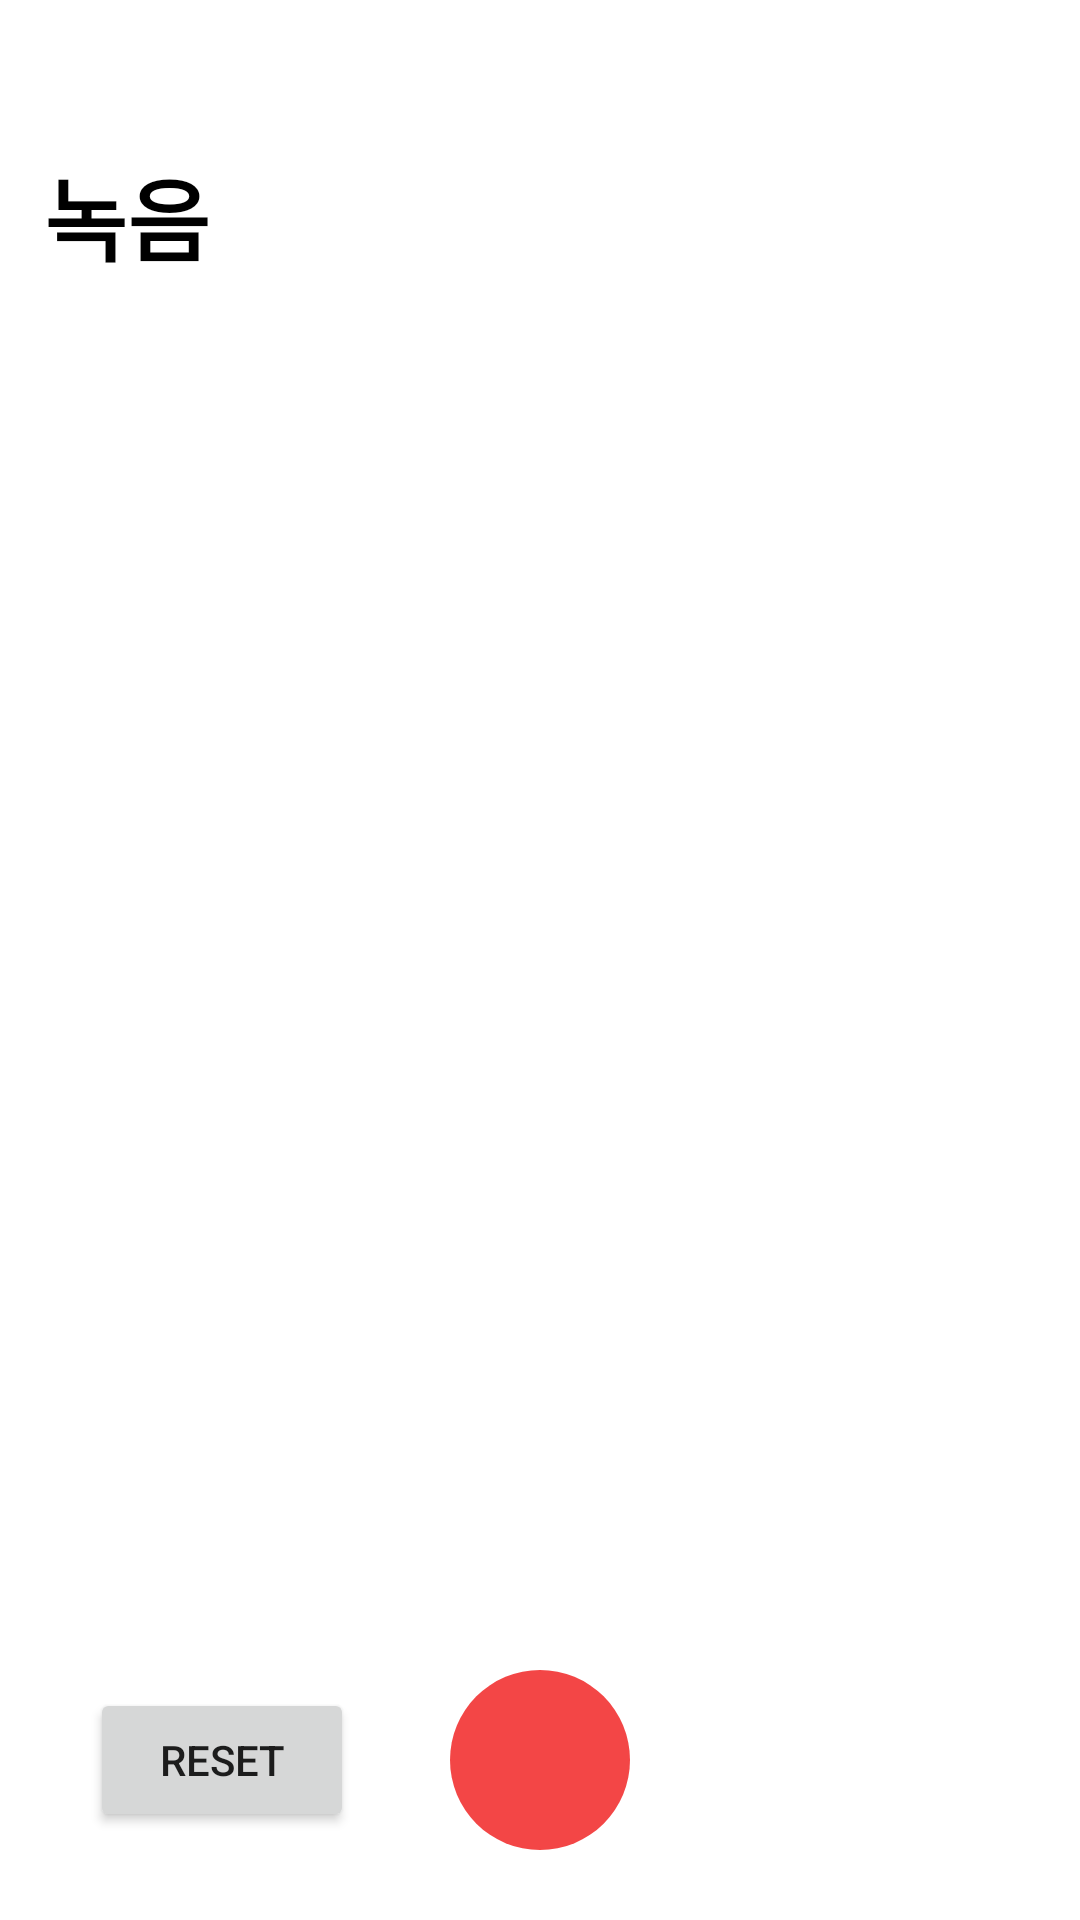

Icons on this 1080×1920 Android screen, each with its box as (x1,y1,x2,y2):
record: (450,1670,630,1850)
